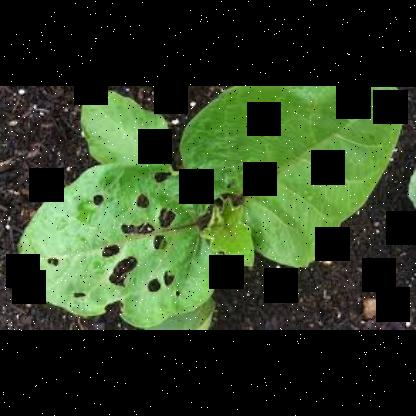agujero: (197, 187, 255, 233), (107, 254, 142, 292), (153, 208, 177, 232), (150, 168, 180, 184), (119, 222, 153, 236), (133, 192, 155, 209), (105, 244, 124, 262), (150, 236, 172, 250), (148, 280, 164, 296), (72, 287, 90, 301), (165, 272, 179, 286), (94, 192, 103, 208), (172, 290, 184, 297), (49, 258, 61, 264)
